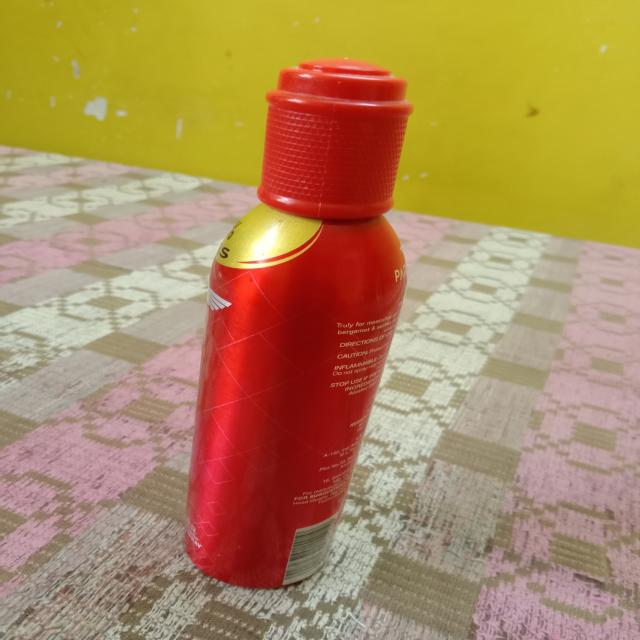deodorant: (179, 33, 416, 588)
